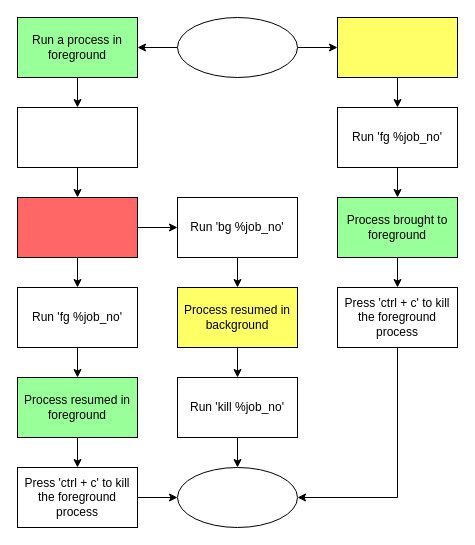
The diagram is 475 pixels wide and 545 high, and some of its shapes have lost their labels. Here are the shapes that lost their labels. From the top down, the centre of each, then its label:
At (237,47): "Start".
At (397,47): "Run a process in background".
At (77,137): "Press 'ctrl + z' to suspend a foreground process".
At (77,227): "Process suspended".
At (237,497): "End".
